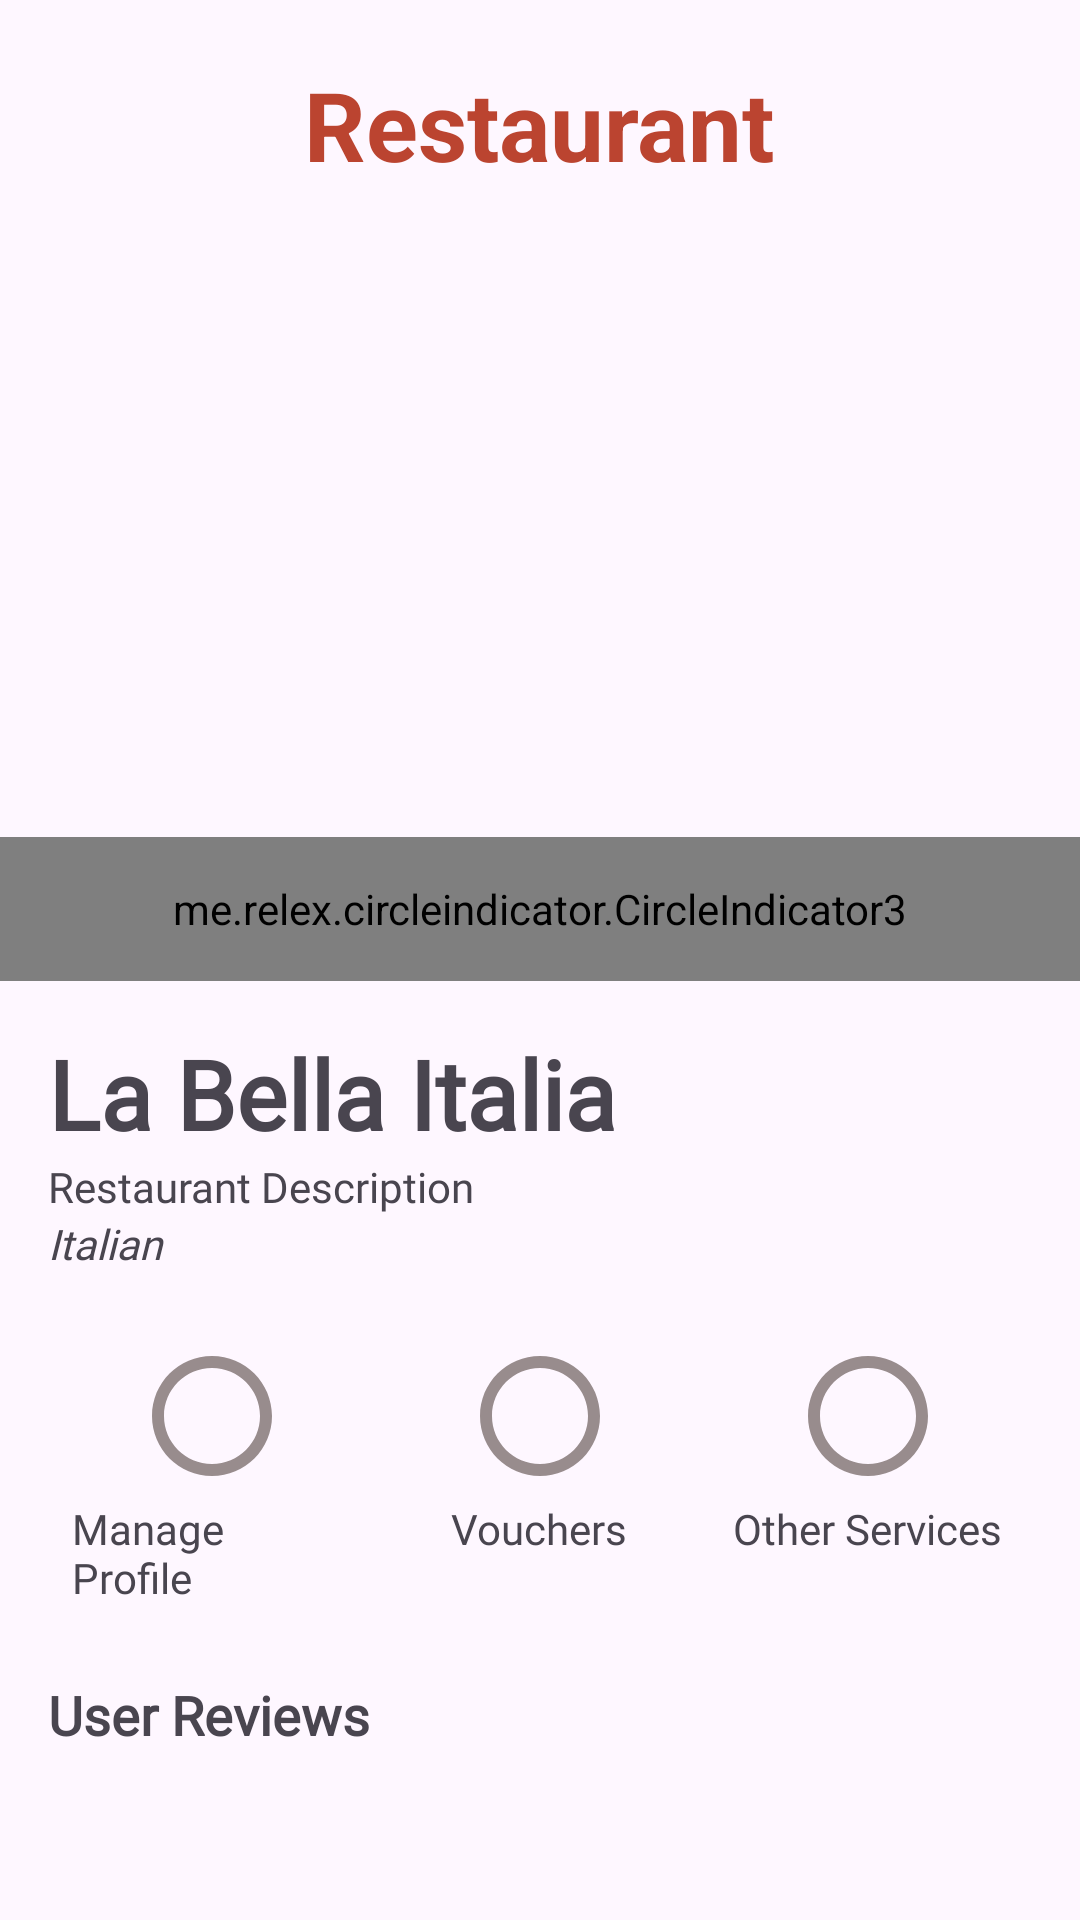

Named icons in this screenshot (1080w x 1920h) and their bounding boxes, [x1, y1, x2, y2]:
circle: [152, 1356, 272, 1476], [480, 1356, 600, 1476], [808, 1356, 928, 1476]
